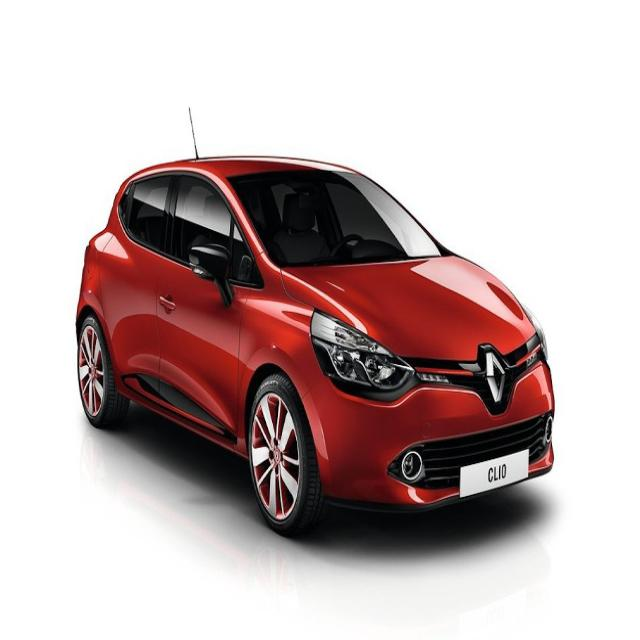front_bumper: (303, 364, 556, 502)
front_glass: (226, 171, 444, 268)
front_right_side_door: (155, 169, 250, 451)
front_right_side_light: (309, 305, 415, 406)
front_right_side_mirror: (188, 240, 232, 298)
wheel: (246, 376, 320, 534), (78, 319, 123, 429)
